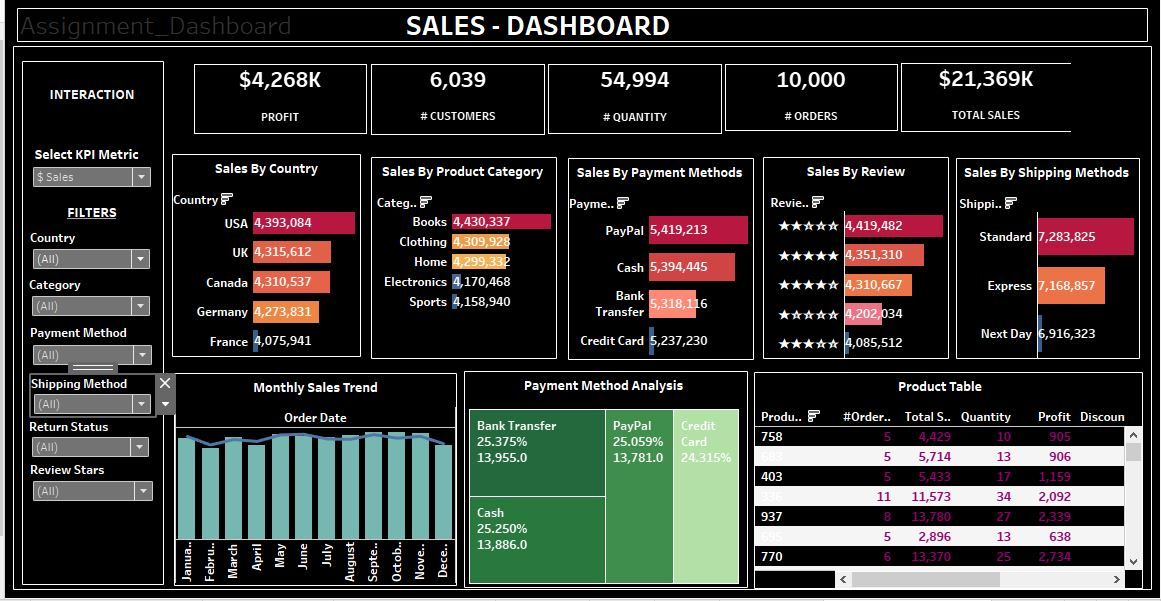

The dashboard page shown, as its layout file describes it:
{"tool":"tableau","page":{"name":"Assignment_Dashboard","canvas":[1000,1000],"units":"permille","ordinal":0},"visuals":[{"type":"title","box":[7,13.3,985.9,69.8]},{"type":"text","box":[336.6,21.6,249.3,49.8]},{"type":"text","box":[15,108,123.4,870.4]},{"type":"worksheet","title":"Total_Profit","mark":"Automatic","box":[163,111.3,151.5,119.6]},{"type":"worksheet","title":"Total_Sales","mark":"Automatic","box":[775.3,111.3,148,114.6]},{"type":"worksheet","title":"Total_Customers","mark":"Automatic","box":[317.2,113,150.7,117.9]},{"type":"worksheet","title":"Total_Quantity","mark":"Automatic","box":[470.5,113,150.7,116.3]},{"type":"worksheet","title":"Total_Orders","mark":"Automatic","box":[623.8,113,149.8,111.3]},{"type":"text","box":[30.8,137.9,88.1,49.8]},{"type":"text","box":[23.8,214.3,104,96.4]},{"type":"worksheet","title":"Sales By Country","mark":"Automatic","rows":["Country"],"cols":["Calculation_478226020138426376"],"box":[144.5,262.5,163.9,337.2]},{"type":"worksheet","title":"Sales By Product Category ","mark":"Automatic","rows":["Category"],"cols":["Calculation_478226020138426376"],"box":[317.2,267.4,161.2,335.6]},{"type":"worksheet","title":"Sales By Review","mark":"Automatic","rows":["Calculation_478226020148662284"],"cols":["Calculation_478226020138426376"],"box":[656.4,267.4,161.2,335.6]},{"type":"worksheet","title":"Sales By Payment Methods ","mark":"Automatic","rows":["Payment Method"],"cols":["Calculation_478226020138426376"],"box":[487.2,269.1,161.2,335.6]},{"type":"worksheet","title":"Sales By Shipping Methods ","mark":"Automatic","rows":["Shipping Method"],"cols":["Calculation_478226020138426376"],"box":[823.8,269.1,159.5,333.9]},{"type":"parameter","param":"[Parameters].[Parameter 1]","box":[22,279.1,107.5,49.8]},{"type":"text","box":[26.4,333.9,96.9,49.8]},{"type":"filter","title":"Sales By Country","param":"[federated.1xd7e8m0k1b1d719qihz805lkyix].[none:Country:nk]","box":[22,387,106.6,71.4]},{"type":"filter","title":"Sales By Product Category ","param":"[federated.1xd7e8m0k1b1d719qihz805lkyix].[none:Category:nk]","box":[21.2,465.1,107.5,69.8]},{"type":"filter","title":"Sales By Payment Methods ","param":"[federated.1xd7e8m0k1b1d719qihz805lkyix].[none:Payment Method:nk]","box":[22,544.9,108.4,81.4]},{"type":"worksheet","title":"Payment Method Analysis","mark":"Automatic","box":[397.4,622.9,245.8,360.5]},{"type":"worksheet","title":"Product Table","mark":"Automatic","rows":["Product ID"],"box":[648.5,624.6,336.6,360.5]},{"type":"worksheet","title":"Monthly Sales Trend","mark":"Bar","rows":["Calculation_478226020138426376","Calculation_478226020142243850"],"cols":["Order Date"],"box":[146.3,626.2,244.9,353.8]},{"type":"filter","title":"Sales By Shipping Methods ","param":"[federated.1xd7e8m0k1b1d719qihz805lkyix].[none:Shipping Method:nk]","box":[22.9,629.6,106.6,68.1]},{"type":"filter","title":"Sales By Review","param":"[federated.1xd7e8m0k1b1d719qihz805lkyix].[none:Return Status:nk]","box":[21.2,701,106.6,68.1]},{"type":"filter","title":"Sales By Review","param":"[federated.1xd7e8m0k1b1d719qihz805lkyix].[none:Calculation_478226020148662284:nk","box":[22,772.4,109.2,71.4]}]}

Visuals, with their boxes on the dashboard's canvas, which has no fixed pixel size, in thousandths of its width and height (x1, y1, x2, y2). These are canvas units, not pixel positions in the 1161x601 screenshot, which may show the page scaled, cropped or inside an application window:
title: (7,13,993,83)
text: (337,22,586,71)
text: (15,108,138,978)
"Total_Profit" worksheet: (163,111,314,231)
"Total_Sales" worksheet: (775,111,923,226)
"Total_Customers" worksheet: (317,113,468,231)
"Total_Quantity" worksheet: (470,113,621,229)
"Total_Orders" worksheet: (624,113,774,224)
text: (31,138,119,188)
text: (24,214,128,311)
"Sales By Country" worksheet: (144,262,308,600)
"Sales By Product Category " worksheet: (317,267,478,603)
"Sales By Review" worksheet: (656,267,818,603)
"Sales By Payment Methods " worksheet: (487,269,648,605)
"Sales By Shipping Methods " worksheet: (824,269,983,603)
parameter: (22,279,130,329)
text: (26,334,123,384)
"Sales By Country" filter: (22,387,129,458)
"Sales By Product Category " filter: (21,465,129,535)
"Sales By Payment Methods " filter: (22,545,130,626)
"Payment Method Analysis" worksheet: (397,623,643,983)
"Product Table" worksheet: (648,625,985,985)
"Monthly Sales Trend" worksheet (Bar marks): (146,626,391,980)
"Sales By Shipping Methods " filter: (23,630,130,698)
"Sales By Review" filter: (21,701,128,769)
"Sales By Review" filter: (22,772,131,844)
